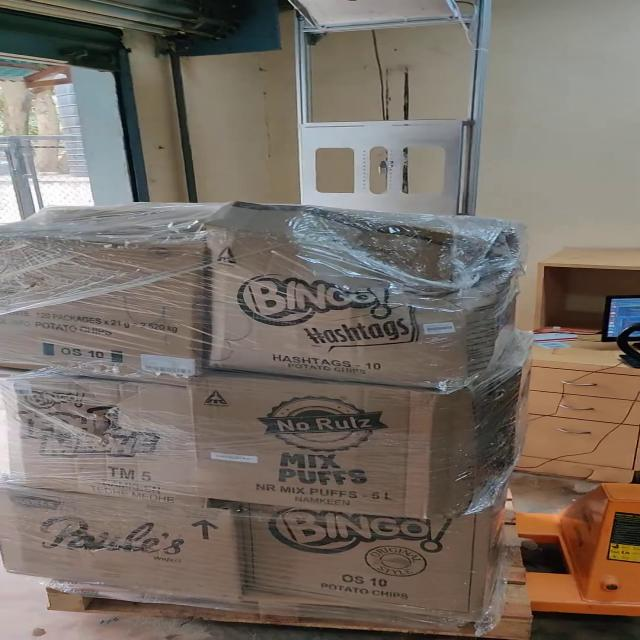squeeze: (284, 210, 521, 313)
tear: (30, 388, 145, 437)
